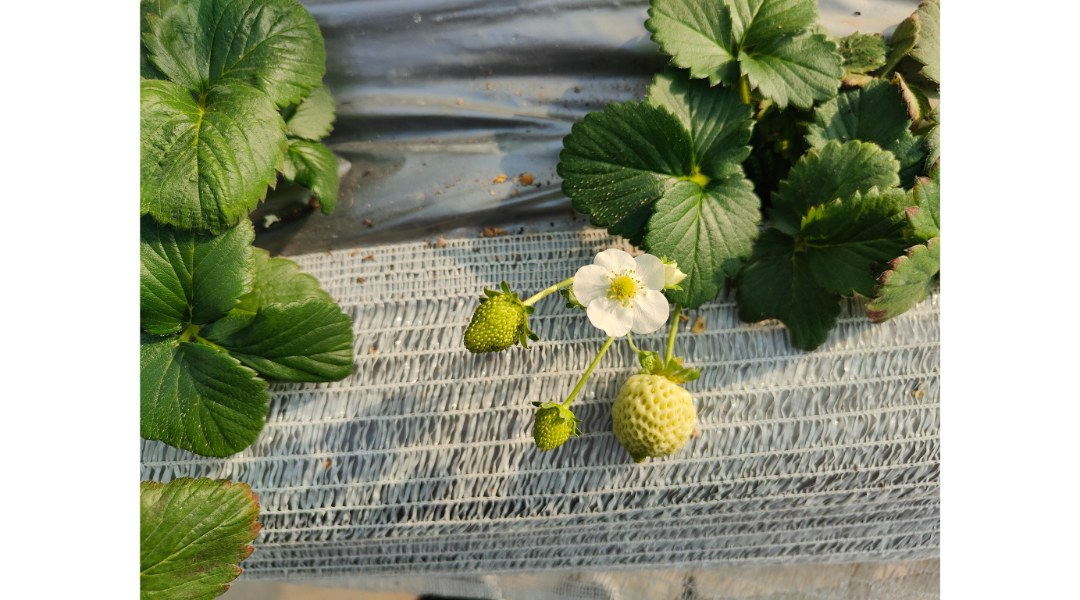berry: (623, 345, 703, 470), (463, 276, 530, 362), (524, 391, 585, 454)
flower: (571, 241, 670, 345)
strain: (567, 338, 613, 409), (523, 274, 571, 304), (666, 307, 683, 370)
